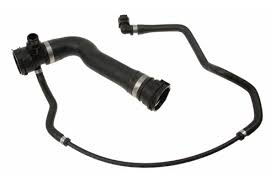radiator_hose: (13, 36, 171, 112)
